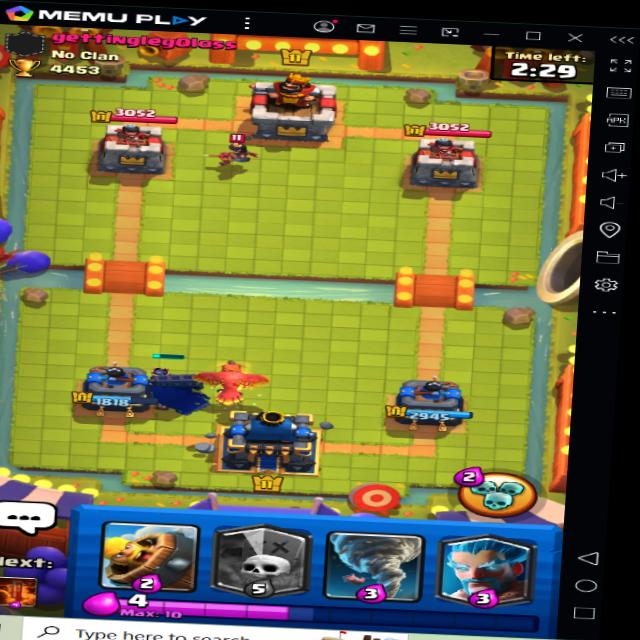princess: (206, 129, 269, 184)
